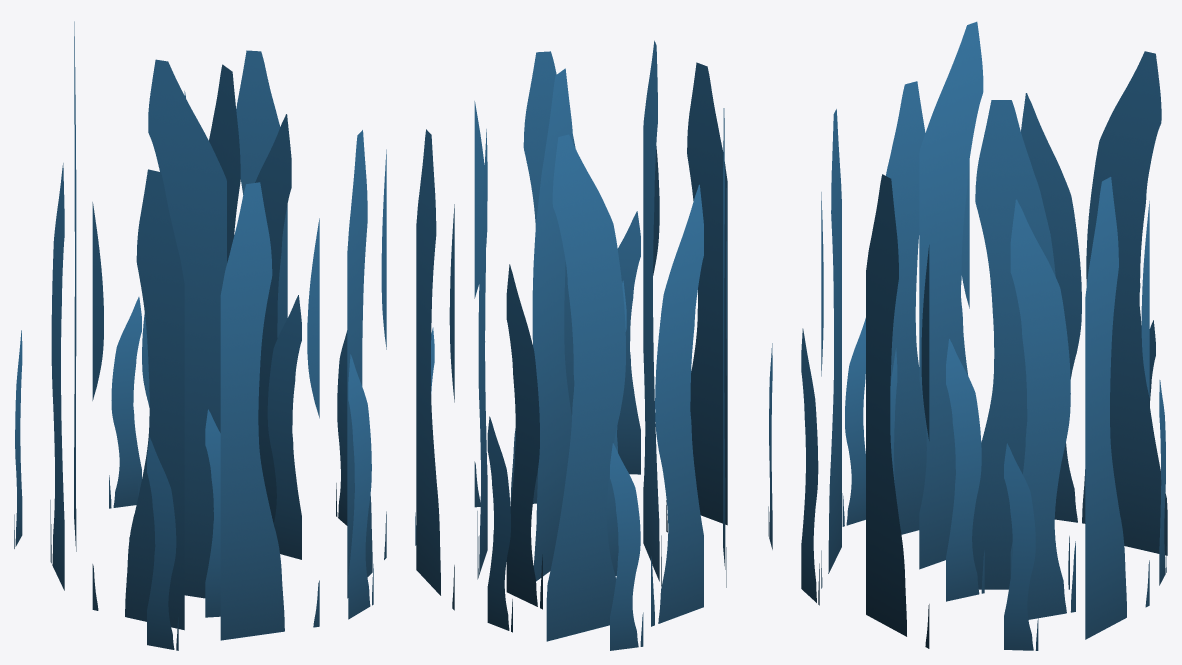
Rendered from GrassBlades 1.fbx.
The picture shows the model from 3 angles, left to right: view 1: azimuth 30°, elevation 25°; view 2: azimuth 150°, elevation 25°; view 3: azimuth 270°, elevation 25°; orthographic projection.
Parts seen in each view (by area): view 1: Plane.014; view 2: Plane.014; view 3: Plane.014.
Part boxes in pixels (x1,y1,x2,y2): Plane.014: (14,21,386,650); Plane.014: (415,40,772,650); Plane.014: (801,21,1167,650).
Bounding box in the file's own units: 28.27 × 51.2 × 32.2.
